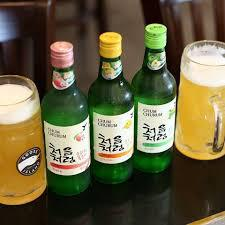soju: (43, 22, 178, 195)
